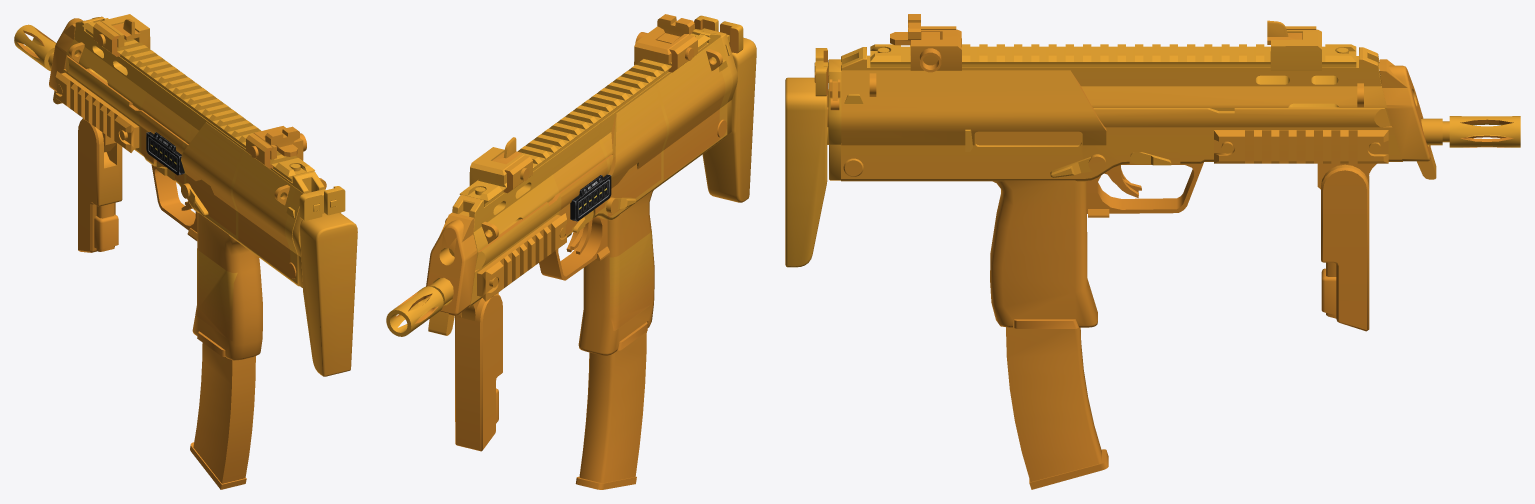
3 views of the same model, side by side, from view 1: azimuth 30°, elevation 25°; view 2: azimuth 150°, elevation 25°; view 3: azimuth 270°, elevation 25° (orthographic). The views are drawn at different scales.
Parts seen in each view (by area): view 1: LOD_Template.001, Magazine1.001, Sticker4, Sticker2, Sticker1, Sticker3, Gunlock1.001, StatTrack.003; view 2: LOD_Template.001, Magazine1.001, Sticker4, Sticker2, Sticker3, Sticker1, StatTrack.003, Gunlock1.001; view 3: LOD_Template.001, Magazine1.001, Gunlock1.001.
Part boxes in pixels (box(x1,y1,x2,y2)): LOD_Template.001: box(14, 14, 357, 376); Magazine1.001: box(190, 331, 255, 489); Sticker4: box(233, 148, 295, 277); Sticker2: box(181, 108, 242, 235); Sticker1: box(139, 75, 190, 184); Sticker3: box(195, 248, 237, 341); Gunlock1.001: box(299, 186, 345, 220); StatTrack.003: box(146, 132, 184, 175); LOD_Template.001: box(386, 14, 756, 451); Magazine1.001: box(575, 322, 647, 489); Sticker4: box(657, 41, 725, 180); Sticker2: box(600, 81, 666, 218); Sticker3: box(609, 230, 653, 330); Sticker1: box(552, 122, 607, 235); StatTrack.003: box(570, 174, 611, 221); Gunlock1.001: box(694, 15, 743, 53); LOD_Template.001: box(785, 14, 1520, 331); Magazine1.001: box(1006, 319, 1108, 489); Gunlock1.001: box(814, 48, 1081, 145).
Size of the model in its own units: 0.0612 by 0.4062 by 0.5864.
6 materials, 6 textured.
